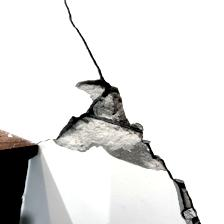High: (43, 1, 206, 224)
